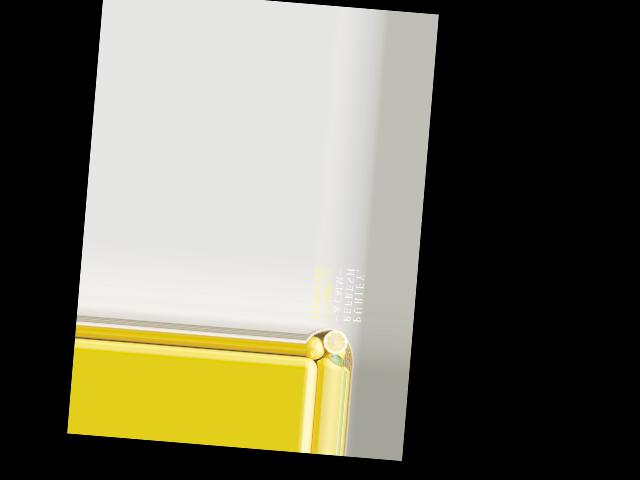lemon: (304, 336, 326, 360)
